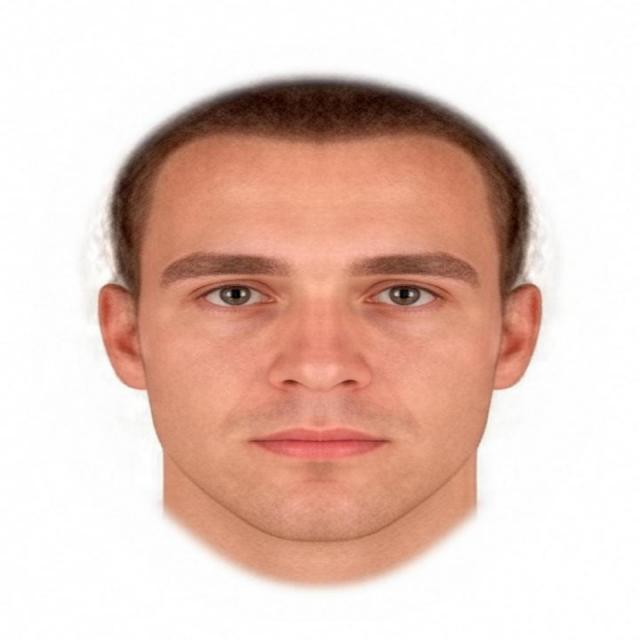earlobe: (118, 354, 147, 391), (493, 358, 521, 390)
eye: (364, 283, 440, 310), (200, 282, 273, 308)
nose: (270, 377, 372, 418)
wholeear: (98, 283, 148, 390), (494, 284, 542, 391)
